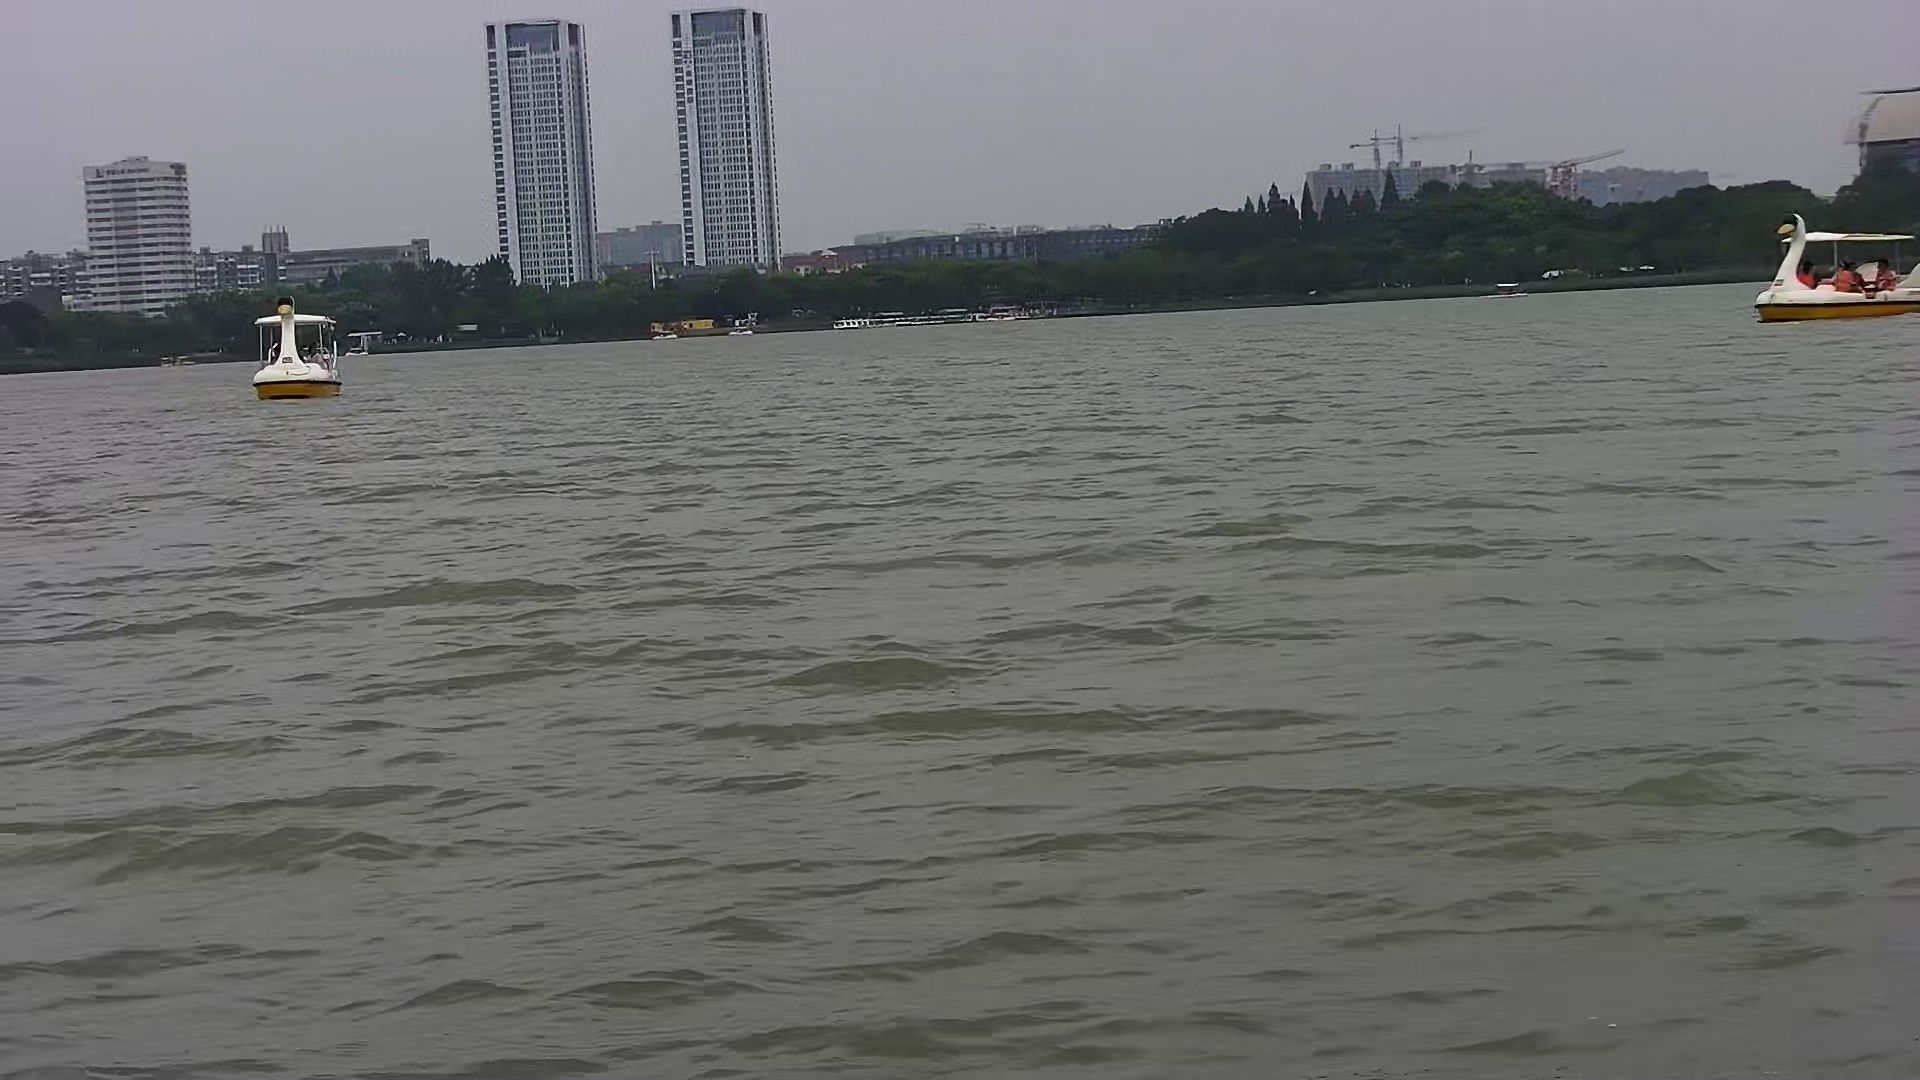boat: (1745, 218, 1920, 326), (245, 302, 349, 406)
